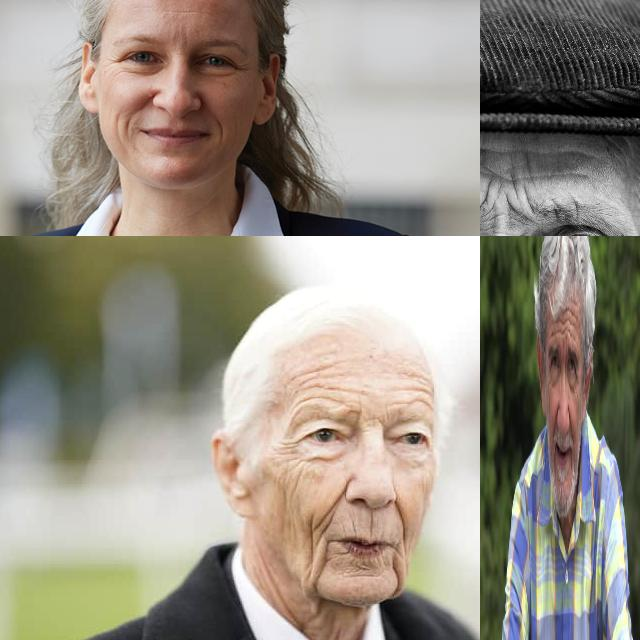crows_feet: (276, 436, 300, 459), (102, 49, 118, 71)
forehead: (298, 370, 347, 402), (534, 161, 584, 187), (398, 378, 436, 406), (160, 3, 204, 20), (568, 302, 576, 345), (550, 322, 560, 341), (562, 302, 566, 340)
frown_line: (480, 171, 526, 236), (364, 411, 388, 431)
gummy_smile: (320, 474, 348, 530), (389, 498, 409, 538), (208, 110, 226, 146), (121, 110, 133, 140), (569, 409, 573, 433), (553, 408, 557, 432)
masseter: (302, 514, 318, 566), (110, 101, 124, 147), (575, 386, 579, 405)
sad_smile: (312, 544, 332, 584), (390, 556, 402, 596)
smoker_lines: (364, 506, 376, 536)
